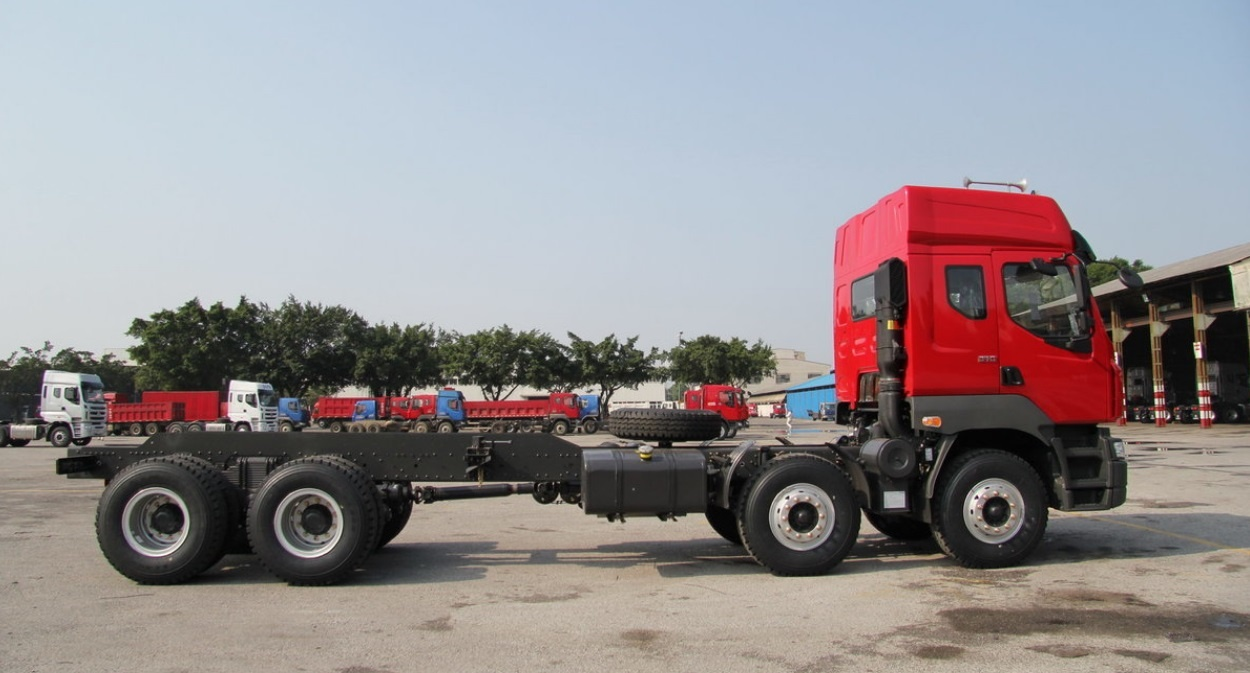heavy truck: (71, 159, 1137, 596)
